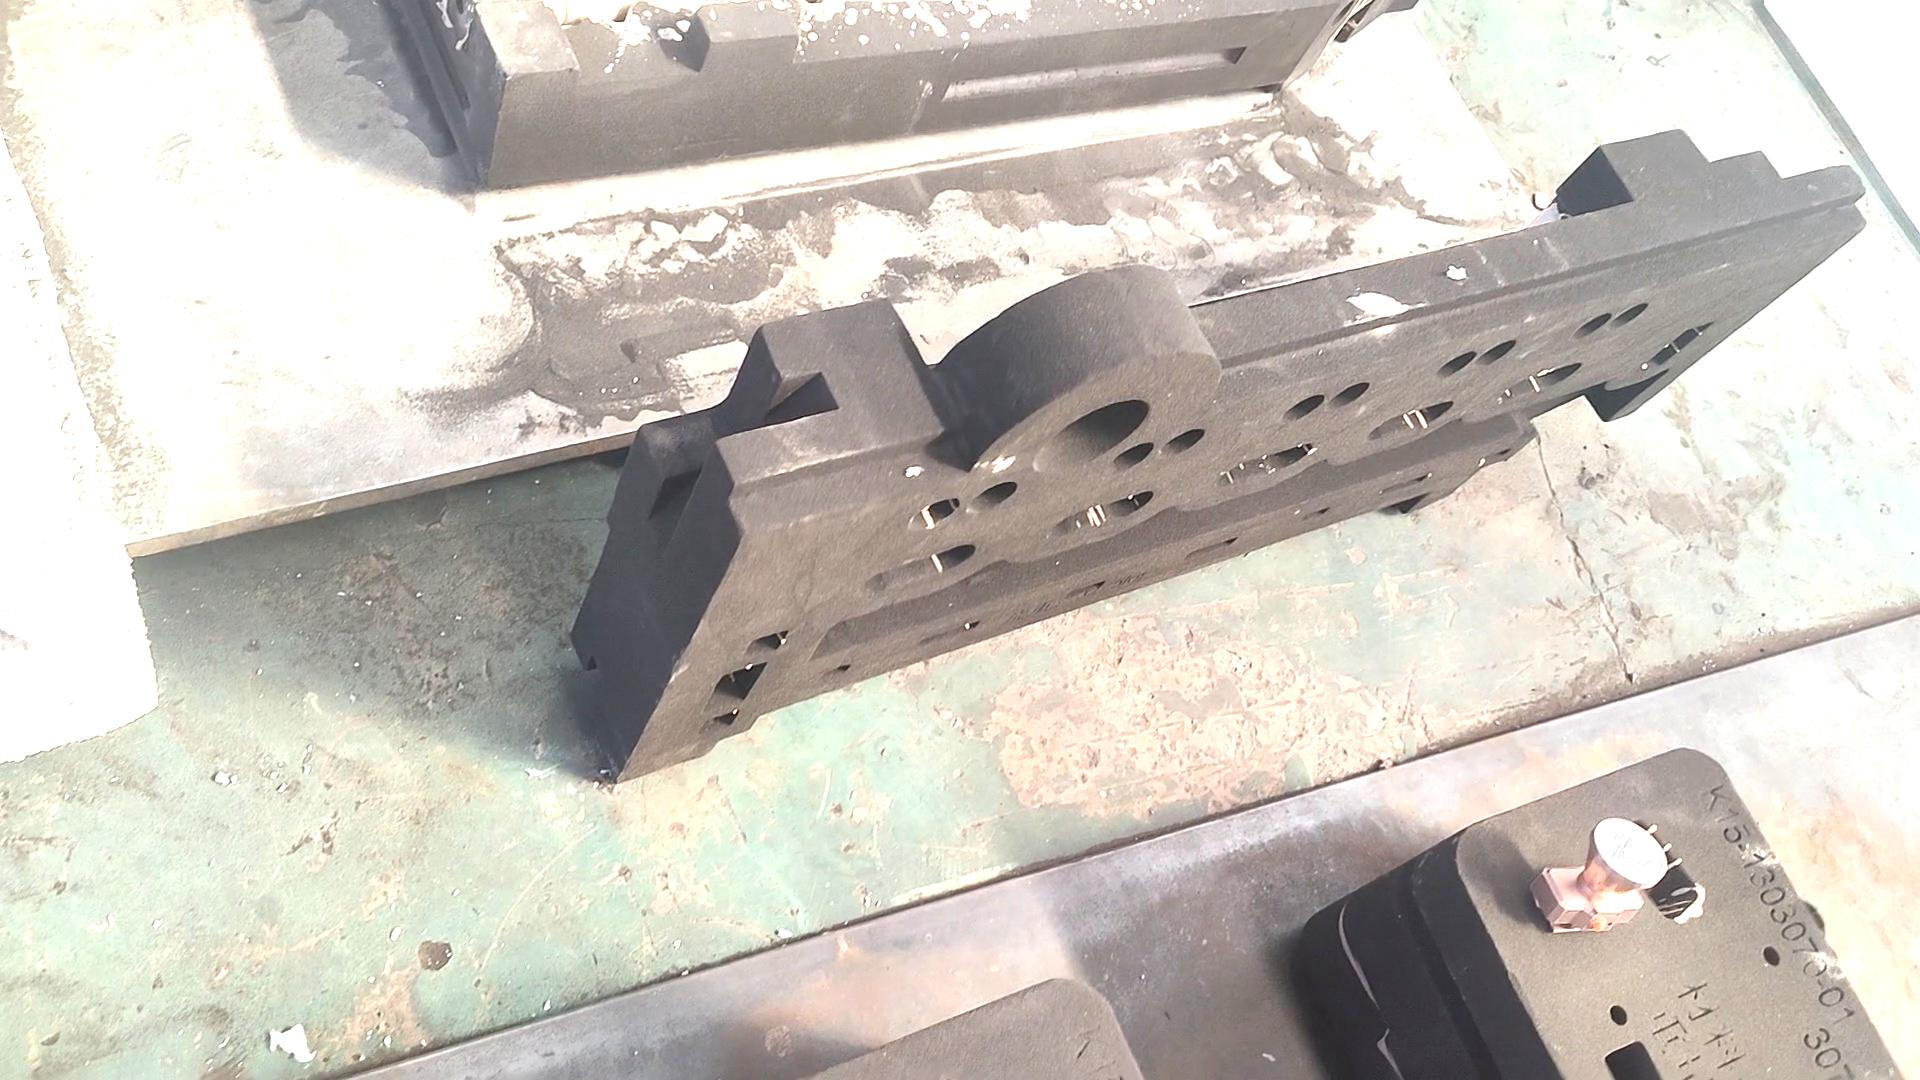pouring hole: (1030, 398, 1149, 476)
